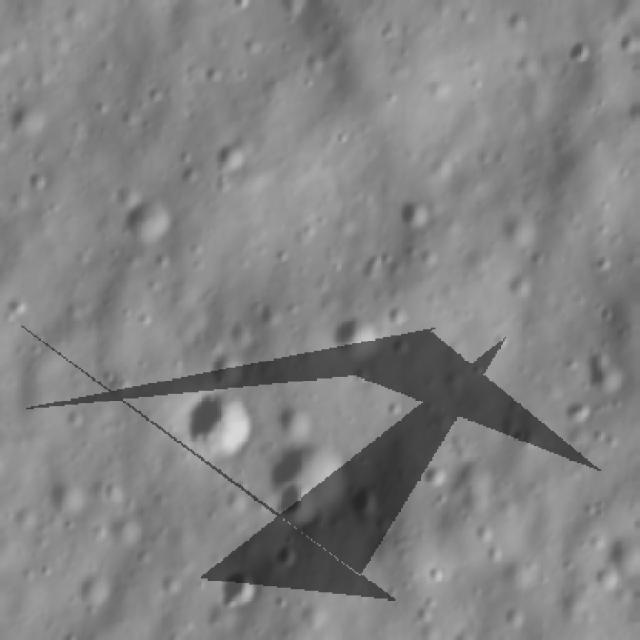crater: (260, 432, 354, 526), (182, 382, 262, 460), (121, 186, 179, 251), (331, 307, 389, 364), (267, 483, 321, 531), (217, 563, 266, 612), (585, 338, 630, 389), (205, 341, 261, 381), (398, 183, 440, 231), (220, 127, 257, 179), (558, 38, 600, 78), (351, 473, 382, 516), (422, 457, 456, 491), (272, 537, 299, 563), (618, 22, 640, 53)
